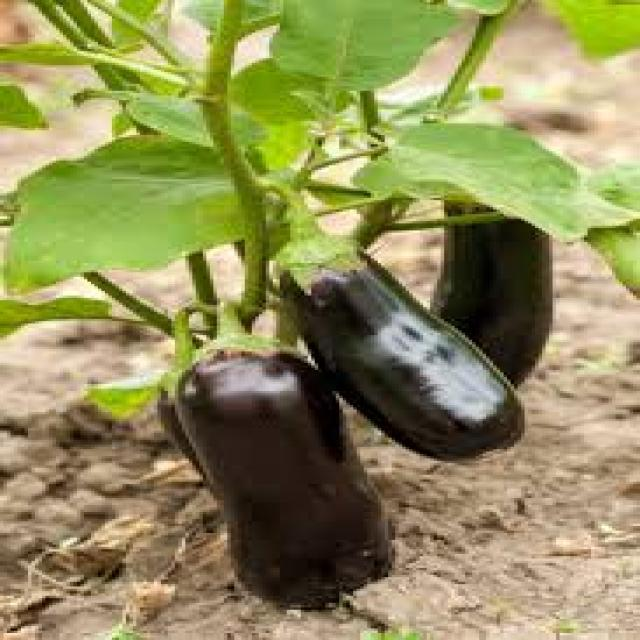Eggplant: (170, 296, 410, 612), (269, 191, 533, 467), (426, 144, 560, 390)
